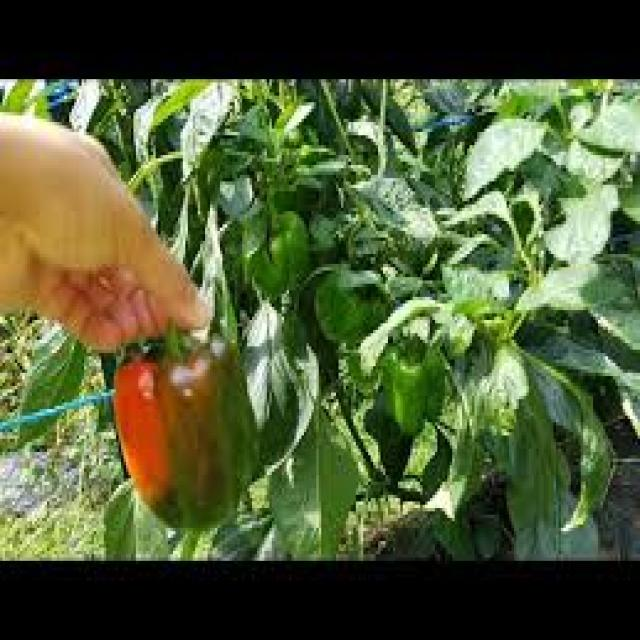bell_pepper: (95, 302, 274, 549)
